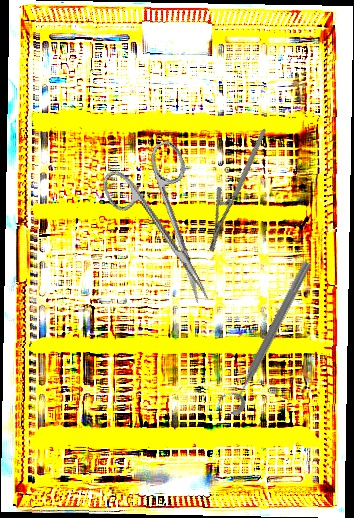Fixation Ring: (214, 254, 317, 418)
Iris Scissors: (95, 137, 240, 320)
Needle Holder: (177, 127, 299, 254)
